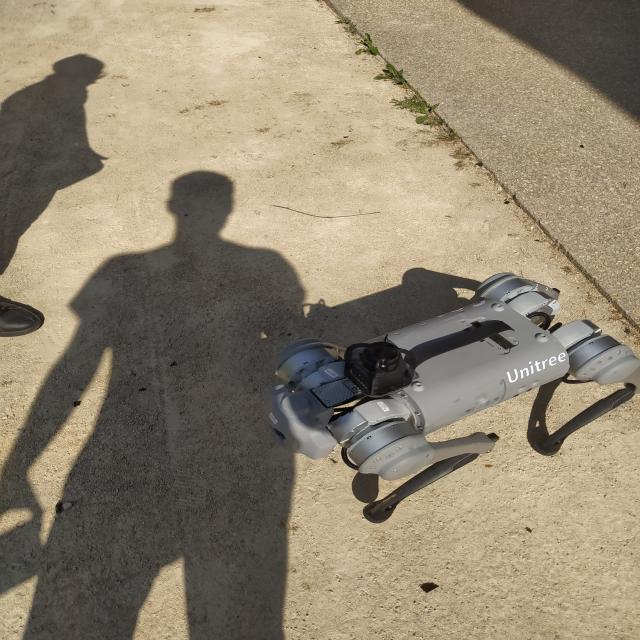unitree-go1-robot: (254, 261, 640, 536)
